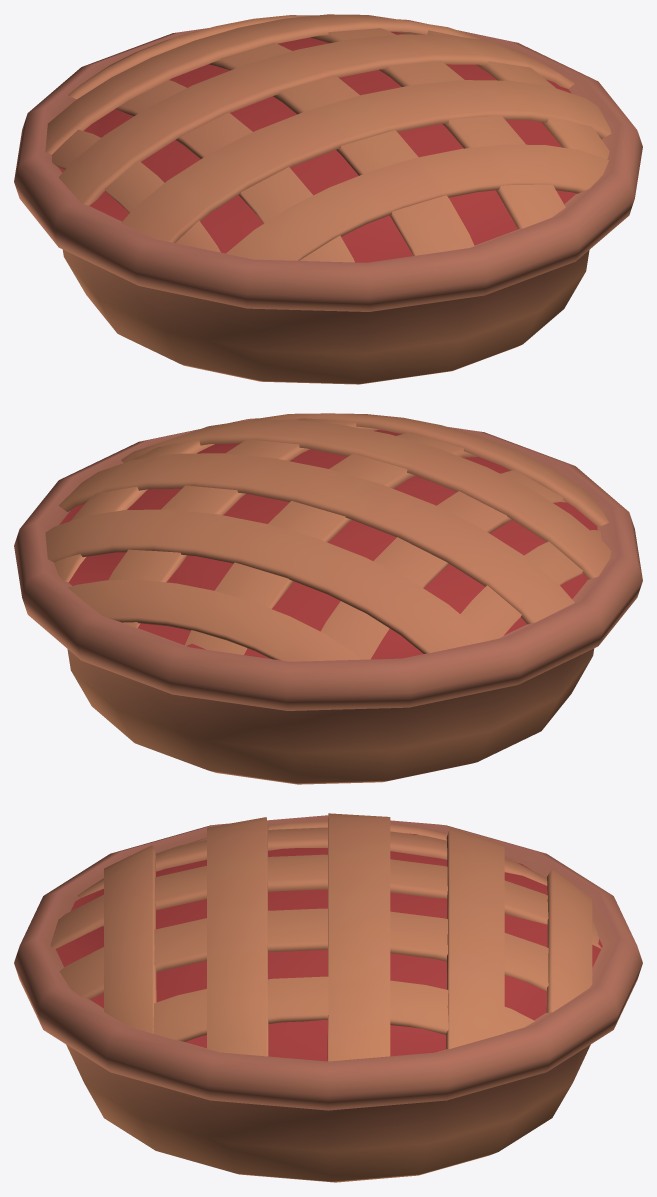
The model's file is Rhubarb Pie.fbx.
3 views of the same model, one above another, from view 1: azimuth 30°, elevation 25°; view 2: azimuth 150°, elevation 25°; view 3: azimuth 270°, elevation 25° (orthographic).
Parts seen in each view (by area): view 1: Rhubarb Pie; view 2: Rhubarb Pie; view 3: Rhubarb Pie.
Boxes of the visible parts, box(x1,y1,x2,y2) form: Rhubarb Pie: box(14, 14, 642, 384); Rhubarb Pie: box(14, 413, 642, 784); Rhubarb Pie: box(14, 813, 642, 1182).
Size of the model in its own units: 50.73 by 19.05 by 50.73.
